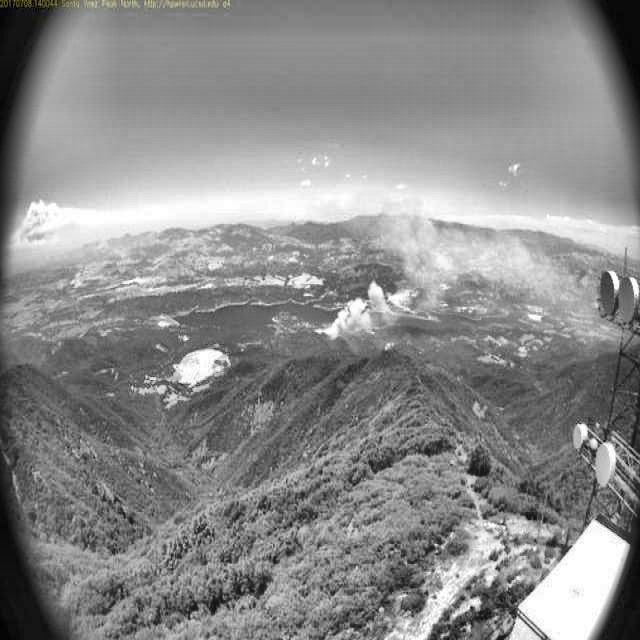smoke: (311, 197, 515, 351)
